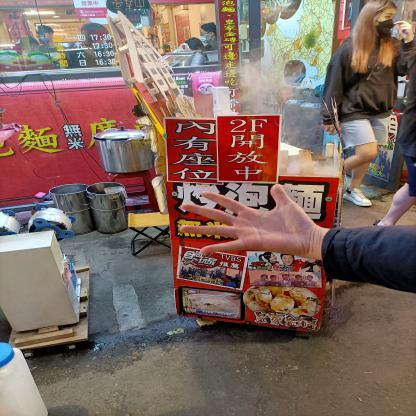bare_hand: (168, 179, 334, 273)
